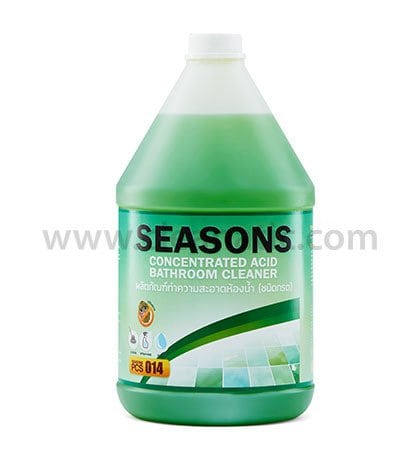Cleaning_solution: (111, 28, 320, 432)
